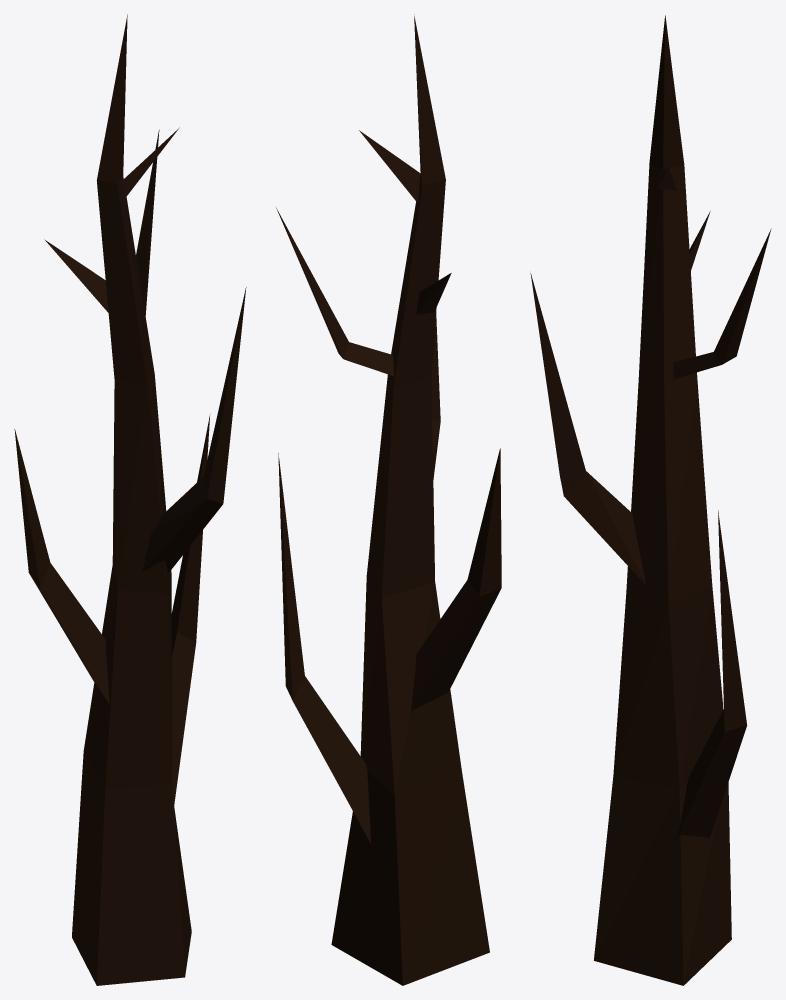
Rendered from Tree2_M1_dead2.fbx.
3 renders of one model, left to right at view 1: azimuth 30°, elevation 25°; view 2: azimuth 150°, elevation 25°; view 3: azimuth 270°, elevation 25°, orthographic.
Visible parts, largest first — view 1: Tree2_M1_dead2; view 2: Tree2_M1_dead2; view 3: Tree2_M1_dead2.
Part boxes in pixels (x1,y1,x2,y2): Tree2_M1_dead2: [14, 14, 246, 985]; Tree2_M1_dead2: [276, 14, 501, 985]; Tree2_M1_dead2: [530, 15, 771, 985].
Bounding box in the file's own units: 116 × 498 × 116.
